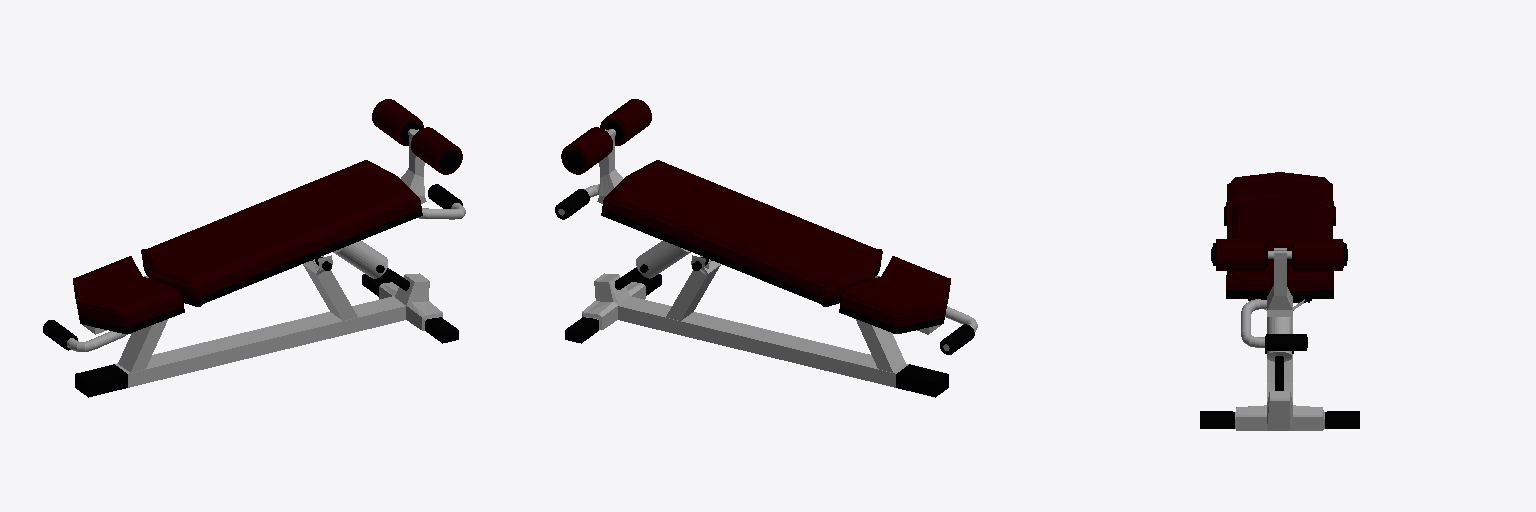
Rendered from bench.obj.
3 renders of one model, left to right at view 1: azimuth 30°, elevation 25°; view 2: azimuth 150°, elevation 25°; view 3: azimuth 270°, elevation 25°, orthographic.
Parts seen in each view (by area): view 1: bench; view 2: bench; view 3: bench.
Part boxes in pixels (x1,y1,x2,y2): bench: (43,99,465,397); bench: (555,99,977,397); bench: (1200,172,1359,430).
Size of the model in its own units: 1.27 by 0.572 by 0.4421.